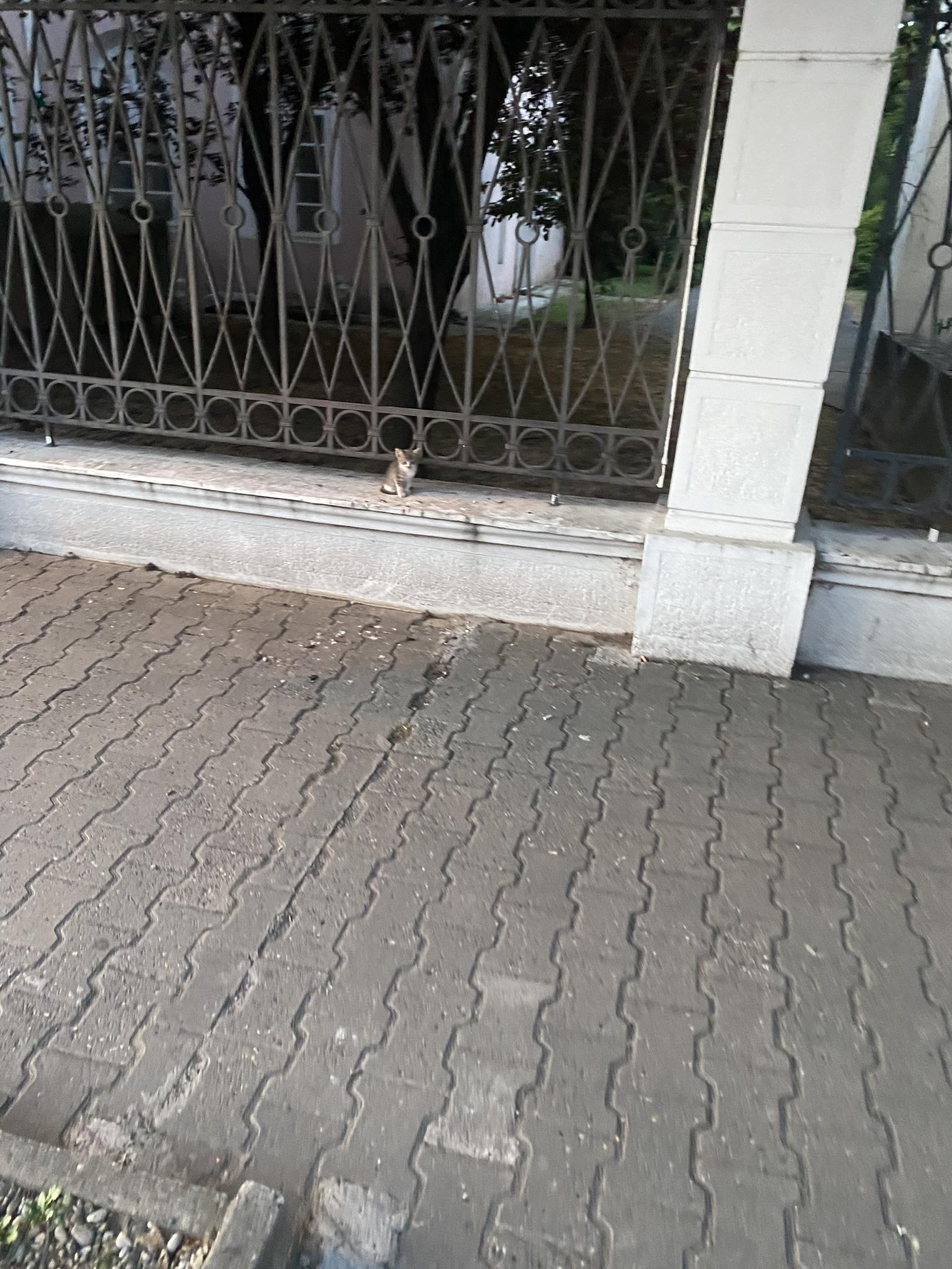macka: (380, 447, 421, 498)
